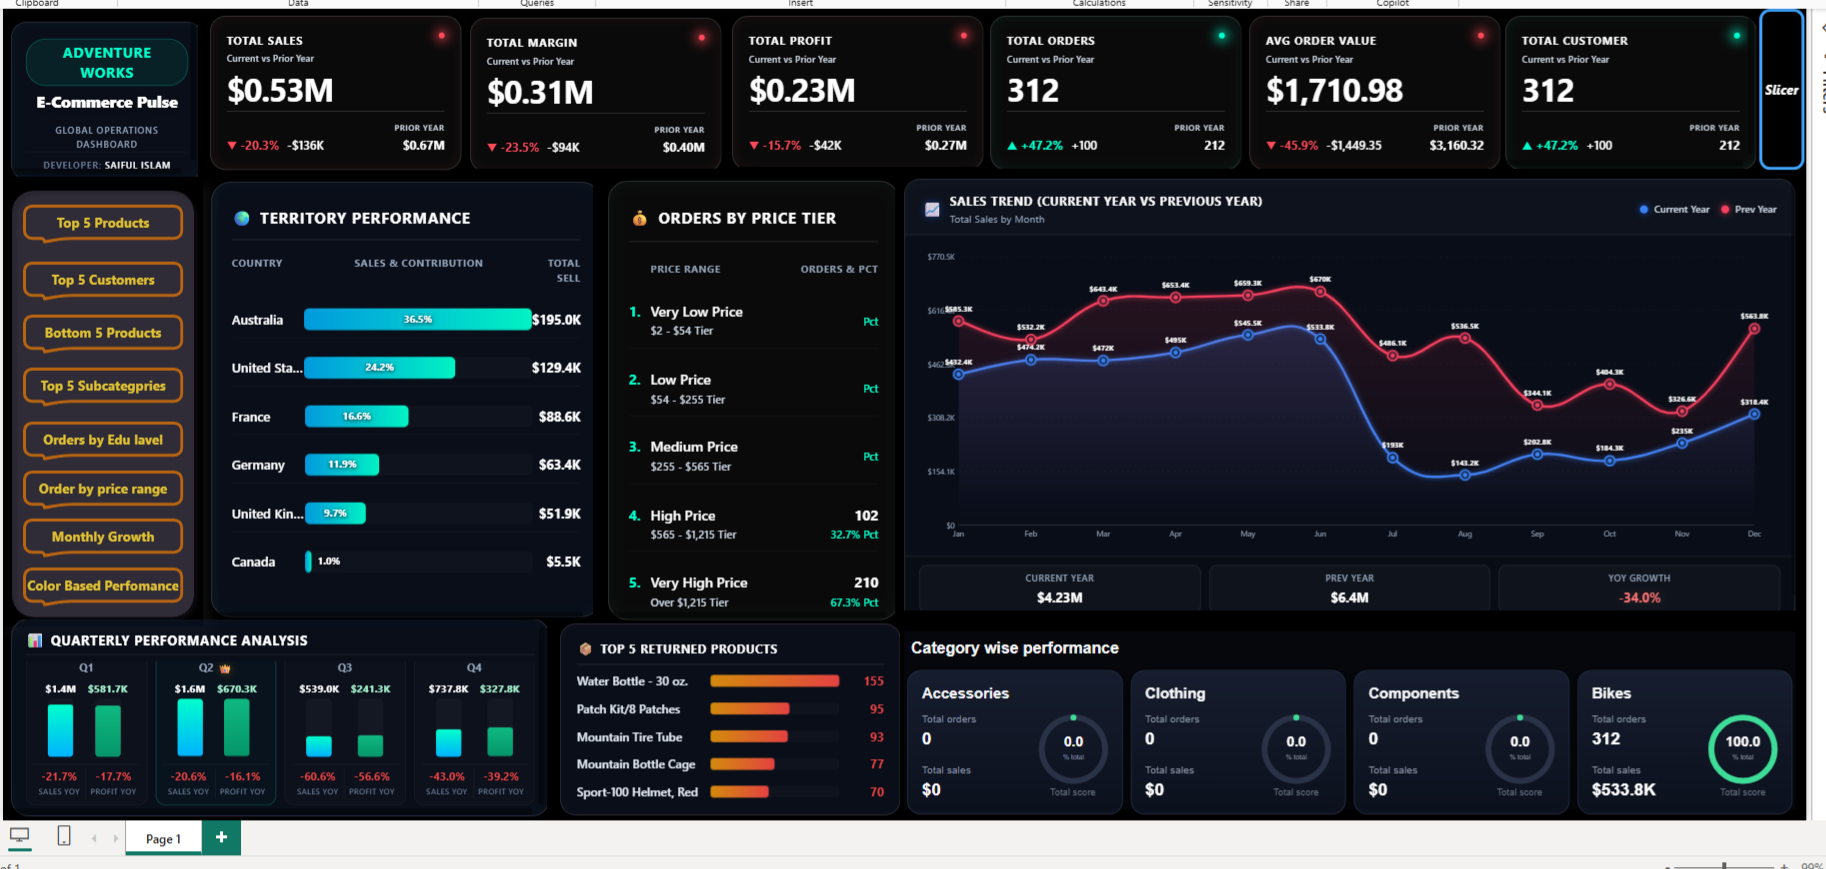

The page's visual inventory and layout, read from the dashboard file:
{"tool":"powerbi","page":{"name":"Page 1","canvas":[1820,820],"ordinal":0},"visuals":[{"type":"STANDALONEhtmlContent443BE3AD55E043BF878BED274D3A6855","fields":{"content":["All measures.KPI_Sales_HTML_Glass"]},"box":[202,0,275.7,174.7],"z":0},{"type":"shape","box":[0,174.7,201.9,449.1],"z":0,"group":"g1"},{"type":"STANDALONEhtmlContent443BE3AD55E043BF878BED274D3A6855","fields":{"content":["All measures.KPI_Margin_HTML_Glass"]},"box":[464.5,2,272.7,163.6],"z":1000},{"type":"actionButton","title":"top 5 products","box":[20.1,197.8,161.7,39.5],"z":1000,"group":"g1"},{"type":"STANDALONEhtmlContent443BE3AD55E043BF878BED274D3A6855","fields":{"content":["All measures.KPI_Profit_HTML_Glass"]},"box":[729.1,0,273.1,163.8],"z":2000},{"type":"actionButton","title":"top 5 customers","box":[20.1,255.9,161.7,39.5],"z":2000,"group":"g1"},{"type":"STANDALONEhtmlContent443BE3AD55E043BF878BED274D3A6855","fields":{"content":["All measures.KPI_Orders_HTML_Glass"]},"box":[989.7,0,271.7,165.6],"z":3000},{"type":"actionButton","title":"bottom 5 products","box":[20.1,308.6,161.7,39.5],"z":3000,"group":"g1"},{"type":"STANDALONEhtmlContent443BE3AD55E043BF878BED274D3A6855","fields":{"content":["All measures.KPI_AOV_HTML_Glass"]},"box":[1251.2,0,272.7,165.6],"z":4000},{"type":"actionButton","title":"top 5 subcategories","box":[20.1,362.4,161.7,39.5],"z":4000,"group":"g1"},{"type":"STANDALONEhtmlContent443BE3AD55E043BF878BED274D3A6855","fields":{"content":["All measures.KPI_customers_HTML_Glass"]},"box":[1509.7,0,264.6,165.6],"z":5000},{"type":"actionButton","title":"order by edu level","box":[20.1,417.3,161.7,39.5],"z":5000,"group":"g1"},{"type":"actionButton","title":"order by price range","box":[20.1,466.7,161.7,39.5],"z":6000,"group":"g1"},{"type":"actionButton","title":"Monthly growth","box":[20.1,515.1,161.7,39.5],"z":7000,"group":"g1"},{"type":"actionButton","title":"color based perfomance","box":[20.1,564.5,161.7,39.5],"z":8000,"group":"g1"},{"type":"STANDALONEhtmlContent443BE3AD55E043BF878BED274D3A6855","title":"Order by price Tier","fields":{"content":["All measures.Price_Quantile_Orders_HTML_Glass"]},"box":[603.1,166.1,301.6,457],"z":11000},{"type":"STANDALONEhtmlContent443BE3AD55E043BF878BED274D3A6855","fields":{"content":["All measures.Category Cards HTML"]},"box":[904.8,624.1,914.9,195.9],"z":14000},{"type":"group","id":"g1","title":"Group 1","box":[0,174.7,202,449.4],"z":15000},{"type":"STANDALONEhtmlContent443BE3AD55E043BF878BED274D3A6855","fields":{"content":["All measures.Territory_Performance_Bars_HTML_Glass"]},"box":[201.9,166.2,399.2,456.1],"z":16000},{"type":"STANDALONEhtmlContent443BE3AD55E043BF878BED274D3A6855","fields":{"content":["All measures.Top_3_Returned_Products_HTML_Glass"]},"box":[554.2,613.1,357,206.8],"z":17000},{"type":"STANDALONEhtmlContent443BE3AD55E043BF878BED274D3A6855","fields":{"content":["All measures.Quarterly_Analysis_HTML_Glass"]},"box":[0,613,554.4,208],"z":18000},{"type":"STANDALONEhtmlContent443BE3AD55E043BF878BED274D3A6855","fields":{"content":["All measures.Dashboard_Header_HTML_Glass"]},"box":[0,4.8,202,169.5],"z":19000},{"type":"STANDALONEhtmlContent443BE3AD55E043BF878BED274D3A6855","fields":{"content":["All measures.Sales_Trend_HTML"]},"box":[904.8,166.6,913.9,446.4],"z":20000},{"type":"actionButton","box":[1773.2,0,45.7,162.8],"z":22000}]}

Visuals, with their boxes on the page's 1820x820 design canvas (x1, y1, x2, y2). These are canvas units, not pixel positions in the 1826x869 screenshot, which may show the page scaled, cropped or inside an application window:
STANDALONEhtmlContent443BE3AD55E043BF878BED274D3A6855 - All measures.KPI_Sales_HTML_Glass: box(202, 0, 478, 175)
shape: box(0, 175, 202, 624)
STANDALONEhtmlContent443BE3AD55E043BF878BED274D3A6855 - All measures.KPI_Margin_HTML_Glass: box(464, 2, 737, 166)
"top 5 products" actionButton: box(20, 198, 182, 237)
STANDALONEhtmlContent443BE3AD55E043BF878BED274D3A6855 - All measures.KPI_Profit_HTML_Glass: box(729, 0, 1002, 164)
"top 5 customers" actionButton: box(20, 256, 182, 295)
STANDALONEhtmlContent443BE3AD55E043BF878BED274D3A6855 - All measures.KPI_Orders_HTML_Glass: box(990, 0, 1261, 166)
"bottom 5 products" actionButton: box(20, 309, 182, 348)
STANDALONEhtmlContent443BE3AD55E043BF878BED274D3A6855 - All measures.KPI_AOV_HTML_Glass: box(1251, 0, 1524, 166)
"top 5 subcategories" actionButton: box(20, 362, 182, 402)
STANDALONEhtmlContent443BE3AD55E043BF878BED274D3A6855 - All measures.KPI_customers_HTML_Glass: box(1510, 0, 1774, 166)
"order by edu level" actionButton: box(20, 417, 182, 457)
"order by price range" actionButton: box(20, 467, 182, 506)
"Monthly growth" actionButton: box(20, 515, 182, 555)
"color based perfomance" actionButton: box(20, 564, 182, 604)
"Order by price Tier" STANDALONEhtmlContent443BE3AD55E043BF878BED274D3A6855: box(603, 166, 905, 623)
STANDALONEhtmlContent443BE3AD55E043BF878BED274D3A6855 - All measures.Category Cards HTML: box(905, 624, 1820, 820)
"Group 1" group: box(0, 175, 202, 624)
STANDALONEhtmlContent443BE3AD55E043BF878BED274D3A6855 - All measures.Territory_Performance_Bars_HTML_Glass: box(202, 166, 601, 622)
STANDALONEhtmlContent443BE3AD55E043BF878BED274D3A6855 - All measures.Top_3_Returned_Products_HTML_Glass: box(554, 613, 911, 820)
STANDALONEhtmlContent443BE3AD55E043BF878BED274D3A6855 - All measures.Quarterly_Analysis_HTML_Glass: box(0, 613, 554, 821)
STANDALONEhtmlContent443BE3AD55E043BF878BED274D3A6855 - All measures.Dashboard_Header_HTML_Glass: box(0, 5, 202, 174)
STANDALONEhtmlContent443BE3AD55E043BF878BED274D3A6855 - All measures.Sales_Trend_HTML: box(905, 167, 1819, 613)
actionButton: box(1773, 0, 1819, 163)
